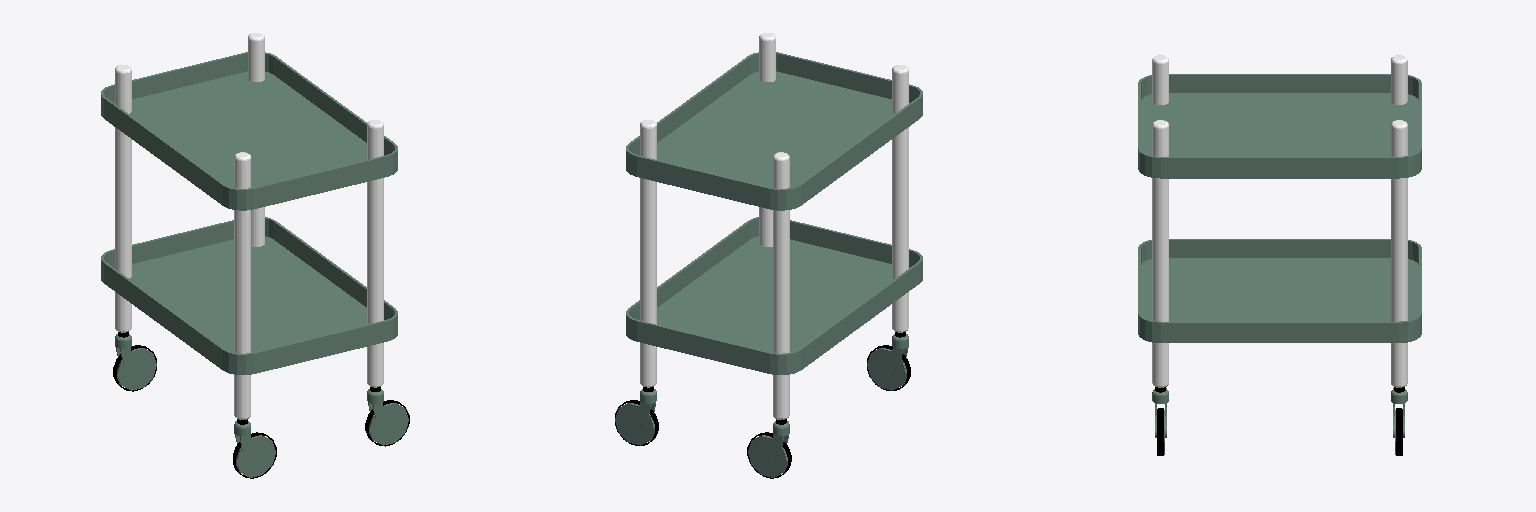
Rendered from KJB6_Servierwagen.obj.
3 renders of one model, left to right at view 1: azimuth 30°, elevation 25°; view 2: azimuth 150°, elevation 25°; view 3: azimuth 270°, elevation 25°, orthographic.
Visible parts, largest first — view 1: object_9, object_12, object_13, object_10, object_11, object_14, object_6, object_20, object_16, object_17, object_21, object_7; view 2: object_9, object_12, object_11, object_14, object_13, object_10, object_16, object_2, object_20, object_3, object_17, object_21; view 3: object_9, object_12, object_10, object_14, object_11, object_13.
Part boxes in pixels (x1,y1,x2,y2): object_9: (101, 52, 397, 210); object_12: (101, 217, 397, 374); object_13: (234, 152, 250, 419); object_10: (367, 120, 383, 387); object_11: (115, 65, 131, 332); object_14: (248, 33, 264, 246); object_6: (369, 403, 408, 445); object_20: (117, 348, 156, 390); object_16: (236, 435, 275, 477); object_17: (234, 421, 261, 462); object_21: (115, 334, 142, 375); object_7: (367, 389, 394, 430); object_9: (626, 52, 922, 210); object_12: (626, 217, 922, 374); object_11: (773, 152, 789, 419); object_14: (640, 120, 656, 387); object_13: (892, 65, 908, 332); object_10: (759, 33, 775, 246); object_16: (867, 348, 906, 390); object_2: (615, 403, 654, 445); object_20: (748, 435, 787, 477); object_3: (629, 389, 656, 430); object_17: (881, 334, 908, 375); object_21: (761, 421, 789, 462); object_9: (1138, 74, 1421, 178); object_12: (1138, 239, 1421, 342); object_10: (1152, 120, 1168, 387); object_14: (1391, 120, 1407, 387); object_11: (1391, 55, 1407, 104); object_13: (1152, 55, 1168, 104).
Size of the model in its own units: 37.64 by 63.17 by 50.